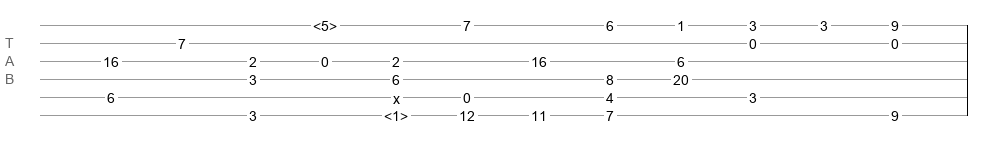0: (321, 54, 329, 64), (463, 90, 471, 100), (749, 36, 757, 46), (891, 36, 899, 46)
1: (677, 18, 685, 28)
11: (531, 108, 547, 118)
12: (459, 108, 475, 118)
16: (103, 54, 119, 64), (531, 54, 547, 64)
2: (249, 54, 257, 64), (392, 54, 400, 64)
20: (673, 72, 689, 82)
3: (249, 72, 257, 82), (249, 108, 257, 118), (749, 18, 757, 28), (749, 90, 757, 100), (820, 18, 828, 28)
4: (606, 90, 614, 100)
6: (107, 90, 115, 100), (392, 72, 400, 82), (606, 18, 614, 28), (677, 54, 685, 64)
7: (178, 36, 186, 46), (463, 18, 471, 28), (606, 108, 614, 118)
8: (606, 72, 614, 82)
9: (891, 108, 899, 118), (891, 18, 899, 28)
harmonic: (313, 18, 337, 28), (384, 108, 408, 118)
x: (393, 91, 400, 99)
